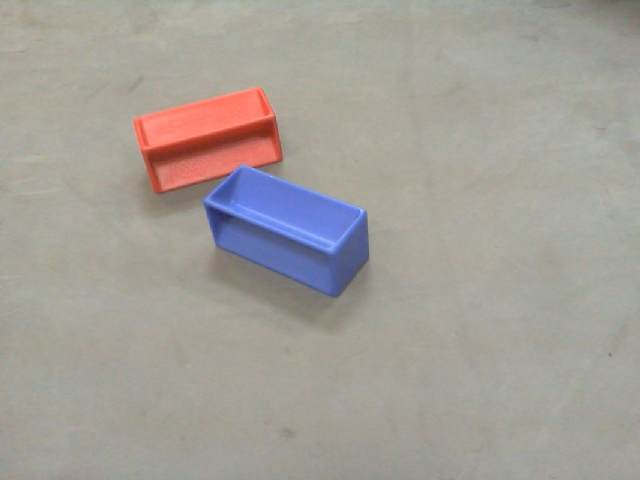BlueSample: (202, 163, 373, 302)
RedSample: (132, 83, 282, 198)
